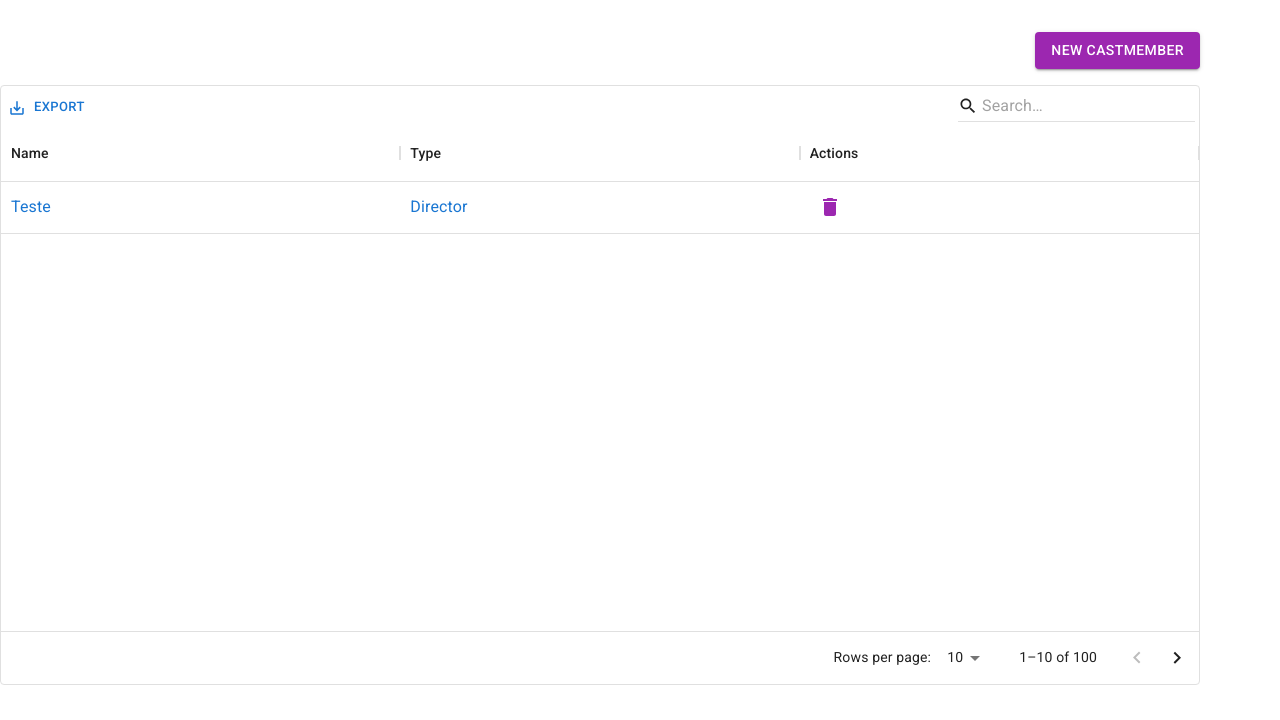
Test: ListCastMembers › should handle Delete CastMember success
Check: the text "Teste" is shown, box [11,195,51,219]
Click the button with test id "delete-button" at (830, 207), box [810,187,850,227]
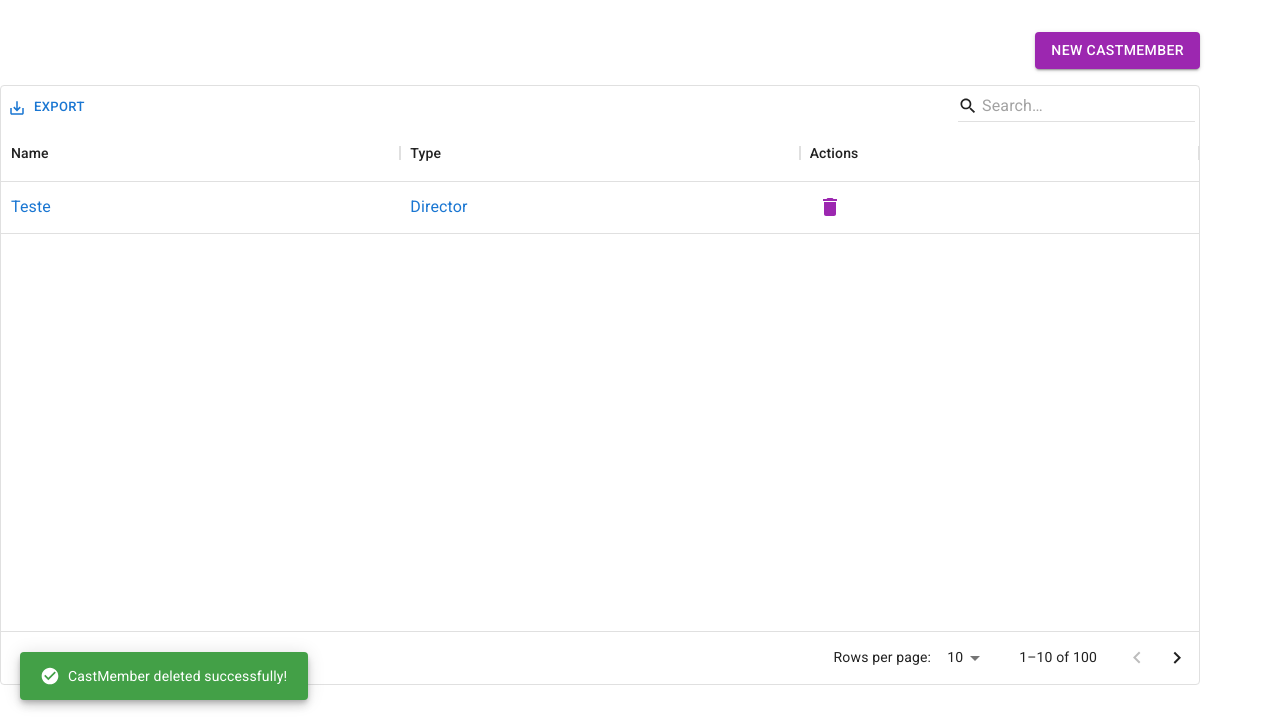
Check: the text "CastMember deleted successfully!" is shown, box [40,666,287,686]
